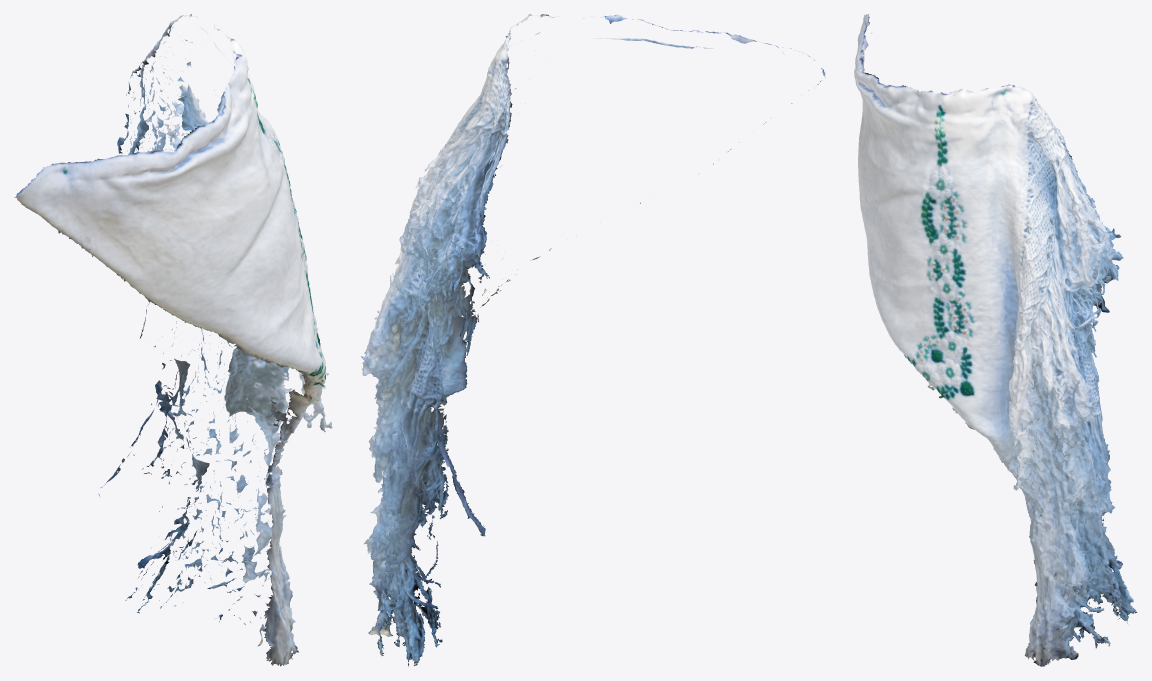
Rendered from 6db672b4-eb4a-43a8-acc3-442012629129-satek2.glb.
3 renders of one model, left to right at view 1: azimuth 30°, elevation 25°; view 2: azimuth 150°, elevation 25°; view 3: azimuth 270°, elevation 25°, orthographic. The views are drawn at different scales.
Visible parts, largest first — view 1: satek; view 2: satek; view 3: satek.
Boxes of the visible parts, box(x1,y1,x2,y2) form: satek: box(14, 14, 332, 666); satek: box(361, 14, 825, 666); satek: box(854, 14, 1137, 666).
Bounding box in the file's own units: 0.3589 × 0.5734 × 0.2741.
Materials: 1 (1 with a texture image).
